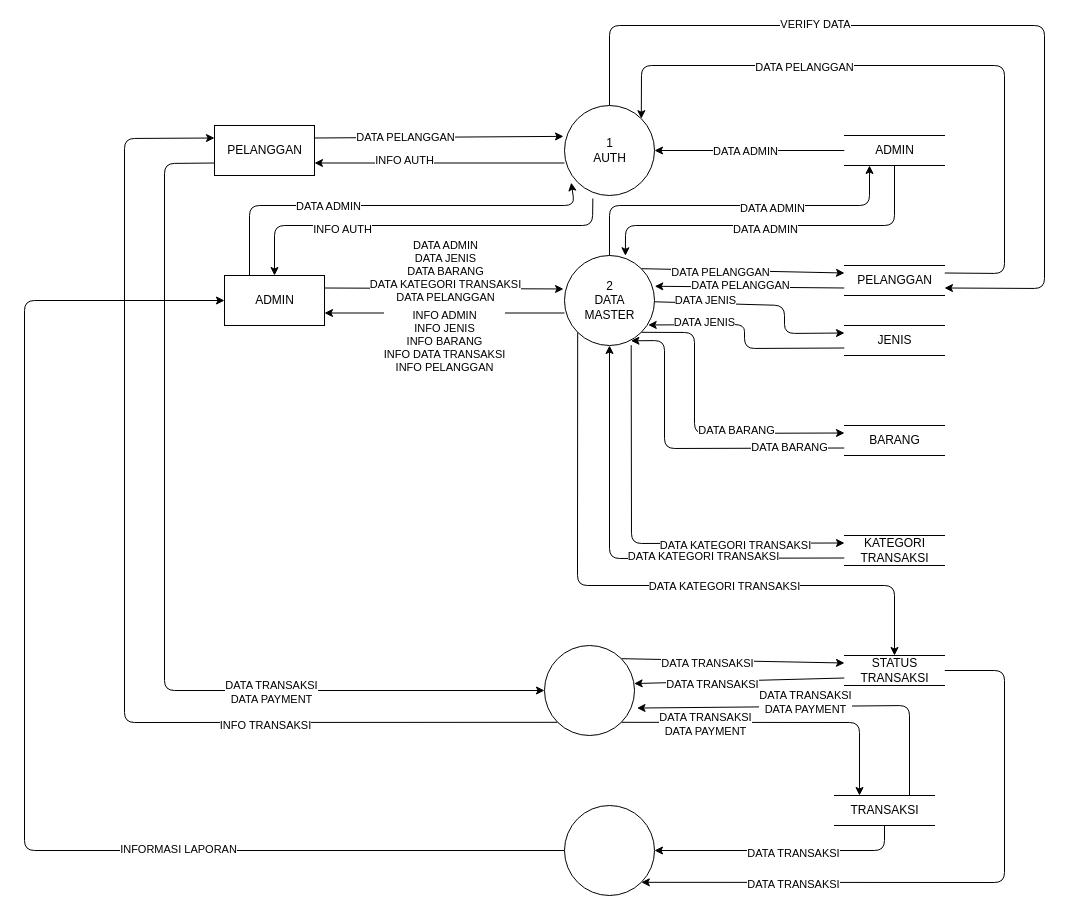
Some shapes in this 1070 by 913 pixel diagram are drawn without their labels. The box of each missing label's shape, as (x1, y1, x2, y2) in pixels:
3 PENGOLAHAN TRANSAKSI: (544, 644, 634, 736)
4 PENGOLAHAN LAPORAN: (564, 804, 654, 896)
